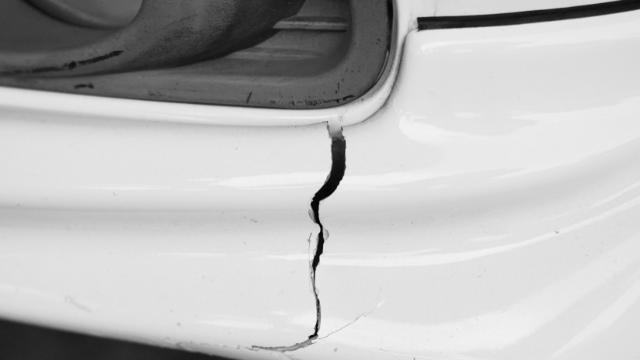Bumper: (0, 86, 640, 360)
